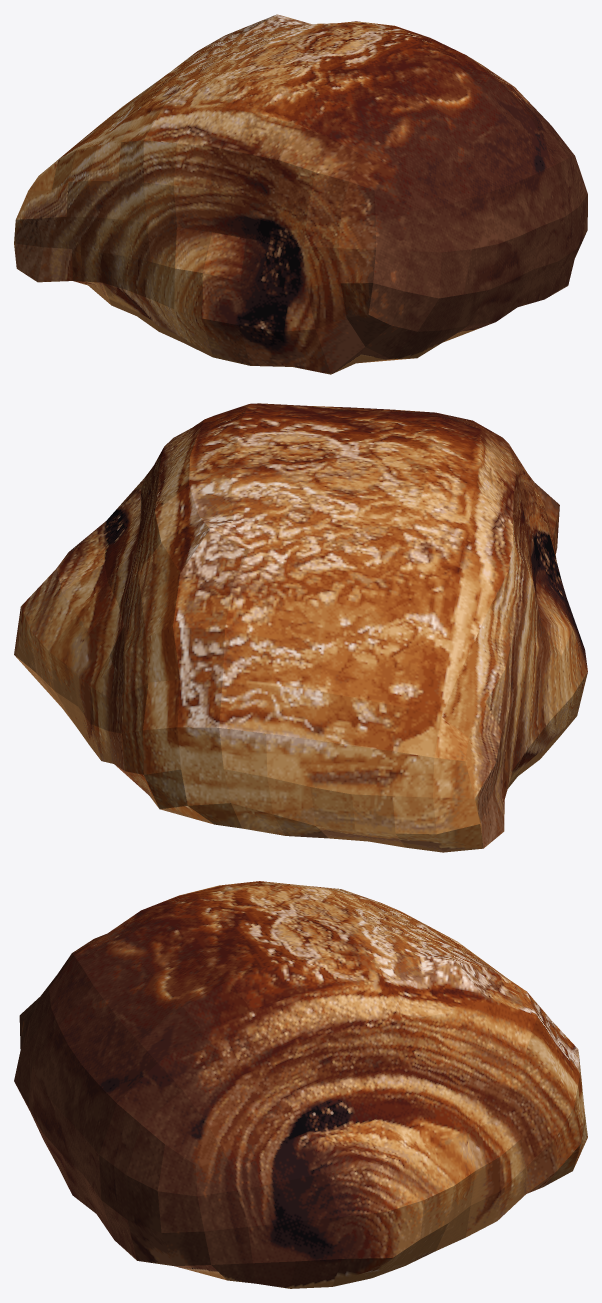
Rendered from pain_au_chocolat.glb.
3 renders of one model, top to bottom at view 1: azimuth 30°, elevation 25°; view 2: azimuth 150°, elevation 25°; view 3: azimuth 270°, elevation 25°, orthographic. The views are drawn at different scales.
Parts seen in each view (by area): view 1: Object_4; view 2: Object_4; view 3: Object_4.
Part boxes in pixels (x1=…): Object_4: x1=14, y1=14, x2=587, y2=374; Object_4: x1=14, y1=403, x2=587, y2=852; Object_4: x1=14, y1=881, x2=587, y2=1288.
Size of the model in its own units: 0.1017 by 0.0506 by 0.1025.
Materials: 1 (1 with a texture image).
